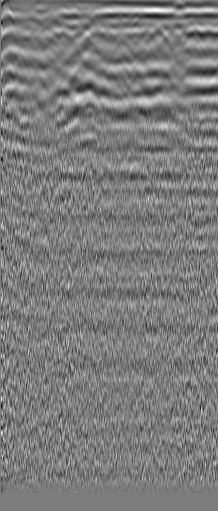오수: (22, 10, 42, 30)
우수: (148, 19, 168, 39)
